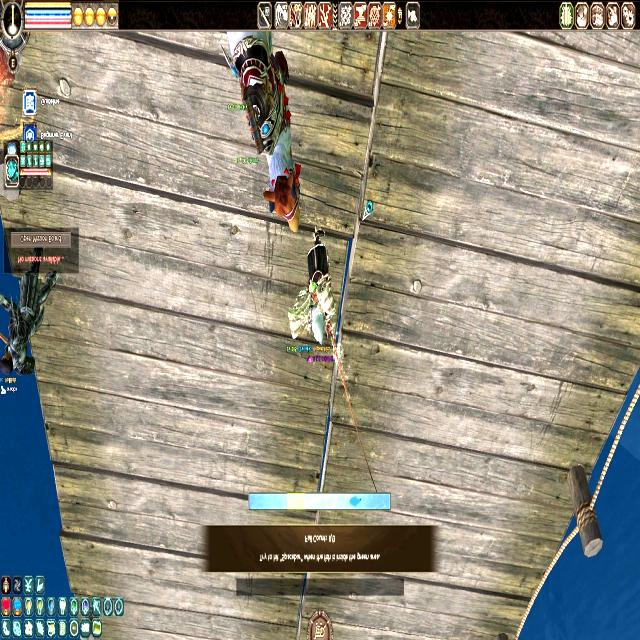fishes: (348, 495, 361, 509)
